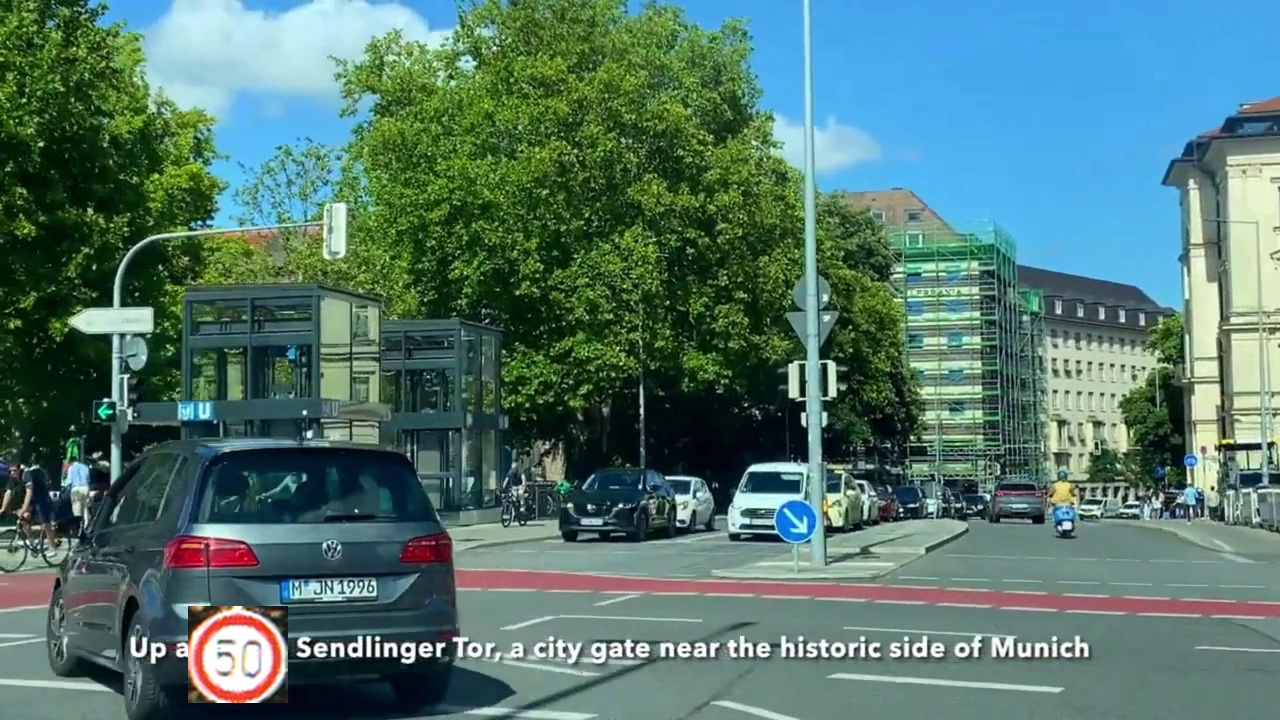Speed 50: (188, 606, 288, 703)
